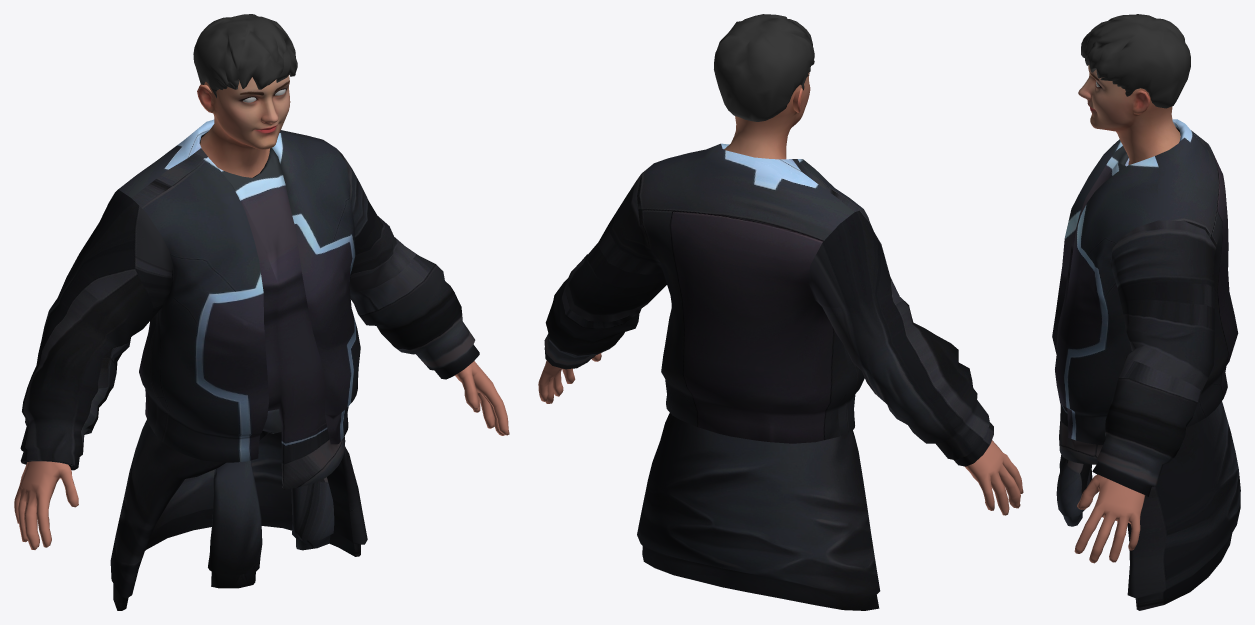
The model's file is ManAvatar.fbx.
3 views of the same model, side by side, from view 1: azimuth 30°, elevation 25°; view 2: azimuth 150°, elevation 25°; view 3: azimuth 270°, elevation 25° (orthographic). The views are drawn at different scales.
Visible parts, largest first — view 1: Upper_Body, Head, Hair, Hands; view 2: Upper_Body, Hair, Hands, Head; view 3: Upper_Body, Hair, Head, Hands.
Part boxes in pixels (left/top/right/bottom): Upper_Body: left=20, top=119, right=479, bottom=610; Head: left=197, top=75, right=290, bottom=177; Hair: left=193, top=14, right=297, bottom=98; Hands: left=14, top=361, right=509, bottom=549; Upper_Body: left=544, top=143, right=993, bottom=610; Hair: left=714, top=14, right=814, bottom=121; Hands: left=538, top=353, right=1023, bottom=515; Head: left=724, top=72, right=810, bottom=159; Upper_Body: left=1052, top=119, right=1240, bottom=610; Hair: left=1081, top=14, right=1190, bottom=108; Head: left=1078, top=65, right=1180, bottom=164; Hands: left=1074, top=474, right=1145, bottom=563.
Bounding box in the file's own units: 106 × 120 × 38.03.
